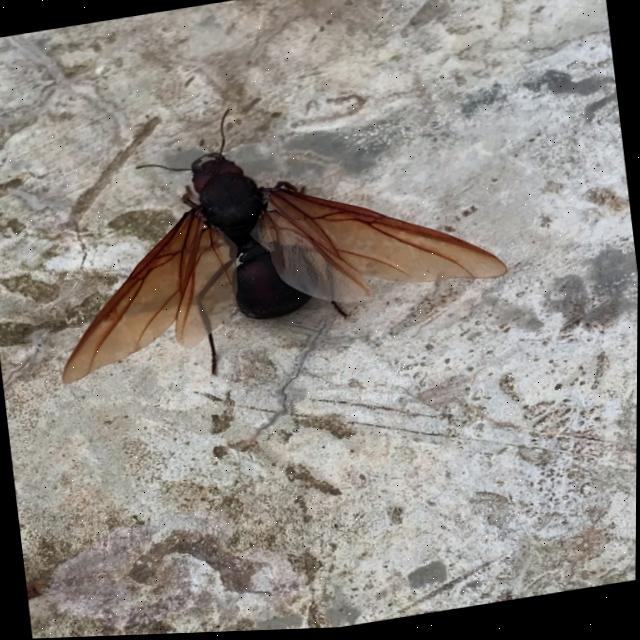Alive-Female-Alate: (31, 69, 517, 401)
